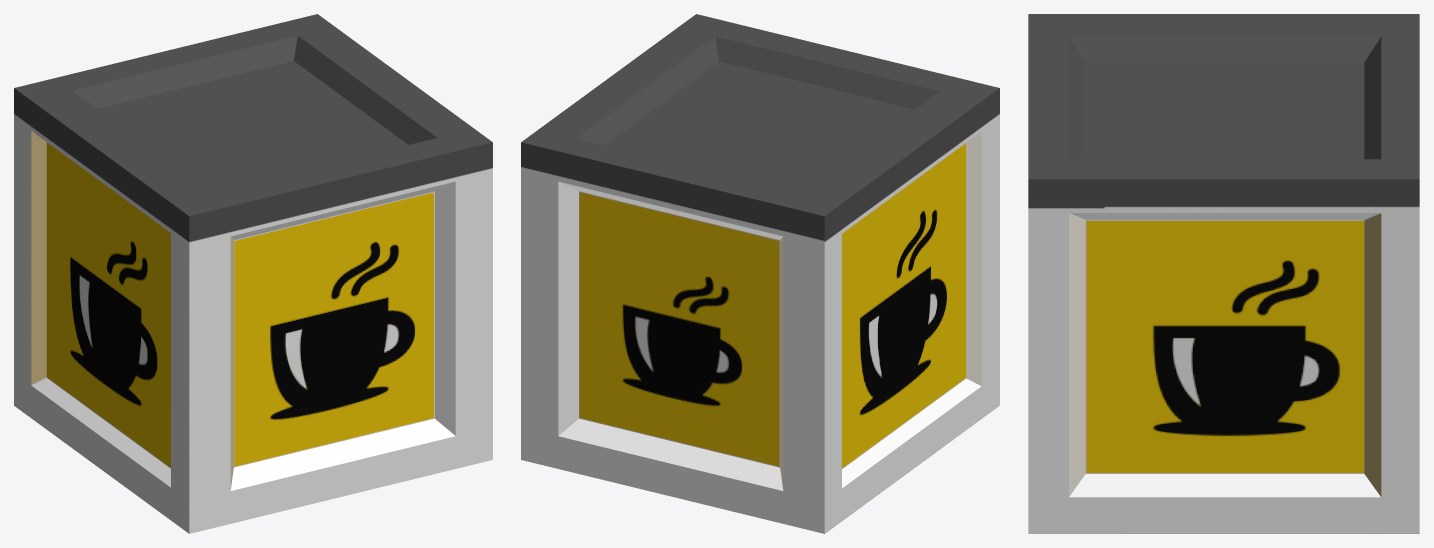
Rendered from Pickup_Speed.obj.
The picture shows the model from 3 angles, left to right: view 1: azimuth 30°, elevation 25°; view 2: azimuth 150°, elevation 25°; view 3: azimuth 270°, elevation 25°; orthographic projection. The views are drawn at different scales.
Parts seen in each view (by area): view 1: Crate1:Base_Crate Crate1:pCube2 Crate1:polySurface2 Pcikup_Speed; view 2: Crate1:Base_Crate Crate1:pCube2 Crate1:polySurface2 Pcikup_Speed; view 3: Crate1:Base_Crate Crate1:pCube2 Crate1:polySurface2 Pcikup_Speed.
Boxes of the visible parts, box(x1,y1,x2,y2) form: Crate1:Base_Crate Crate1:pCube2 Crate1:polySurface2 Pcikup_Speed: box(14, 14, 492, 533); Crate1:Base_Crate Crate1:pCube2 Crate1:polySurface2 Pcikup_Speed: box(521, 14, 999, 533); Crate1:Base_Crate Crate1:pCube2 Crate1:polySurface2 Pcikup_Speed: box(1028, 14, 1419, 533).
Bounding box in the file's own units: 1 × 1 × 1.
